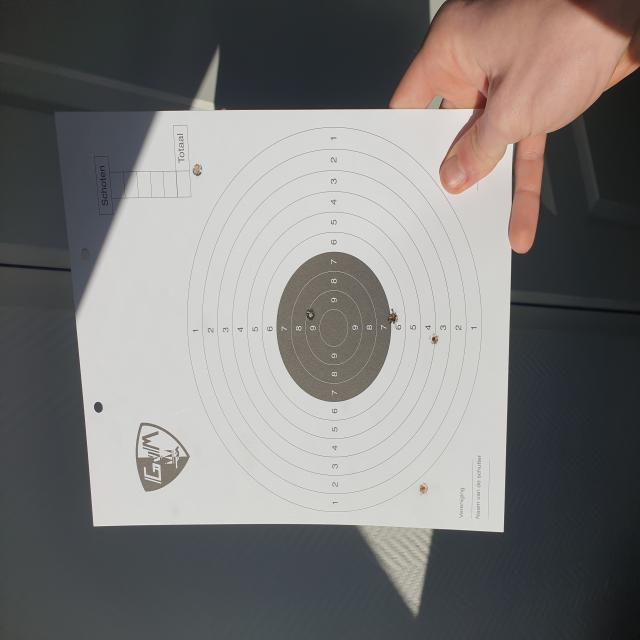0: (192, 163, 203, 177), (418, 482, 428, 496)
4: (429, 332, 439, 345)
7: (387, 308, 399, 326)
9: (304, 308, 315, 320)
Target: (186, 123, 483, 514)
black_contour: (275, 252, 391, 401)
